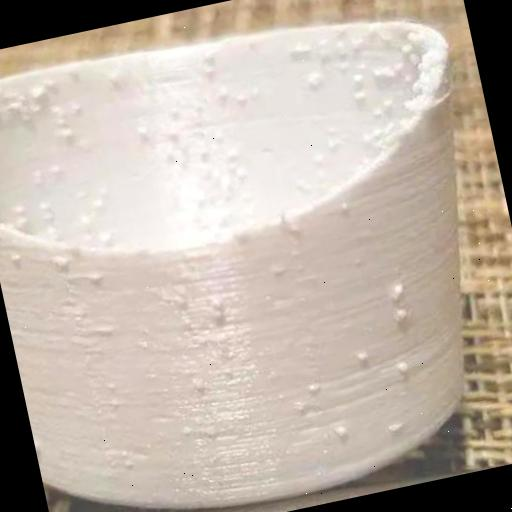blobs: (20, 76, 50, 106), (350, 342, 378, 367), (326, 415, 354, 440), (388, 300, 412, 328), (80, 264, 108, 288), (288, 388, 310, 418), (381, 414, 408, 438), (388, 352, 414, 375), (382, 278, 406, 302), (131, 118, 152, 142), (398, 48, 422, 69), (190, 370, 210, 394), (350, 86, 370, 110), (204, 294, 229, 313), (303, 376, 324, 398), (51, 251, 73, 272), (196, 144, 218, 165), (34, 195, 56, 216), (268, 258, 289, 278), (54, 124, 77, 142), (42, 158, 64, 176), (6, 250, 28, 268), (198, 49, 218, 68), (307, 68, 326, 88), (334, 196, 353, 216), (350, 72, 368, 92), (214, 88, 232, 102), (233, 90, 247, 108)
